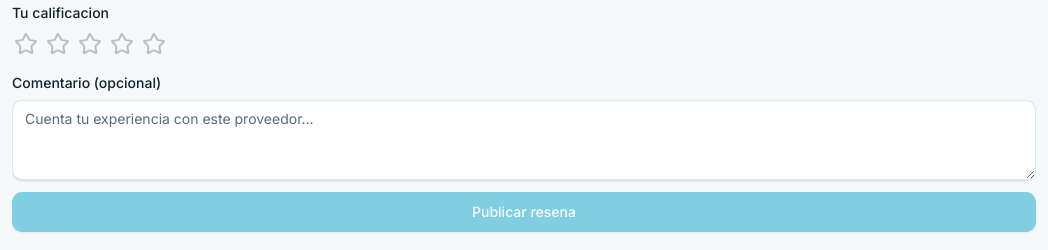
ReviewForm › publica la resena con la calificacion elegida
This screenshot has width=1048, height=250.
Step 1. Click the radio button named "4 estrellas" → (122, 44), box top-left (108, 30), bottom-right (136, 58)
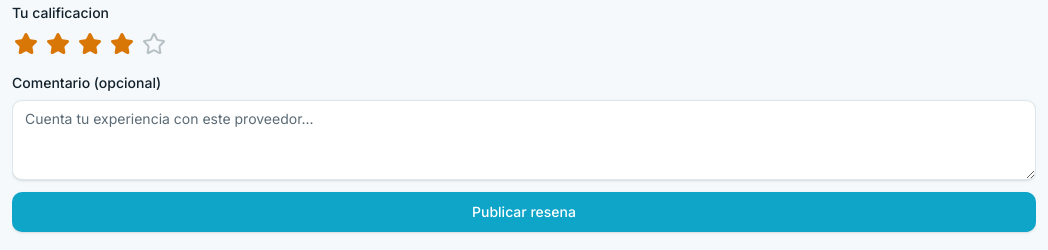
Step 2. Click the button "Publicar resena" → (524, 212), box top-left (12, 192), bottom-right (1036, 232)
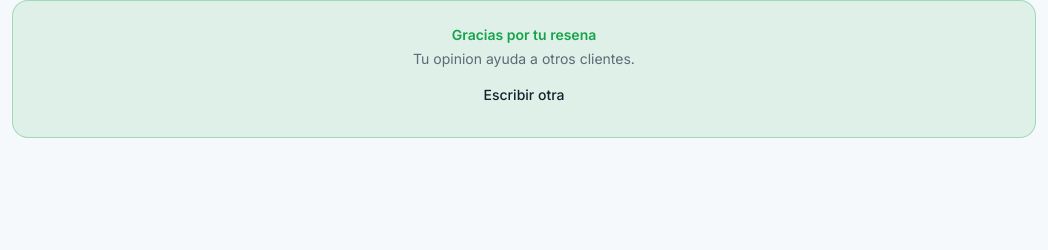
Now the text "Gracias por tu resena" is shown, box top-left (452, 26), bottom-right (596, 43)
